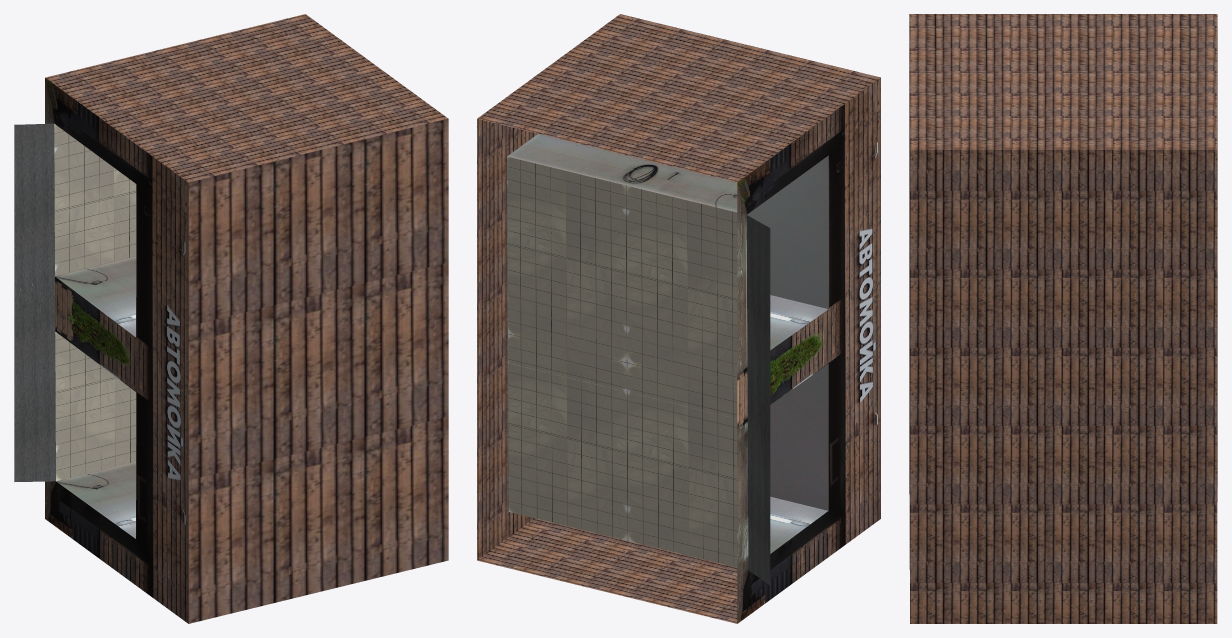
Rendered from CarWash.obj.
The picture shows the model from 3 angles, left to right: view 1: azimuth 30°, elevation 25°; view 2: azimuth 150°, elevation 25°; view 3: azimuth 270°, elevation 25°; orthographic projection. The views are drawn at different scales.
Bounding box in the file's own units: 12.9 × 18.63 × 10.98.
9 materials, 9 textured.
